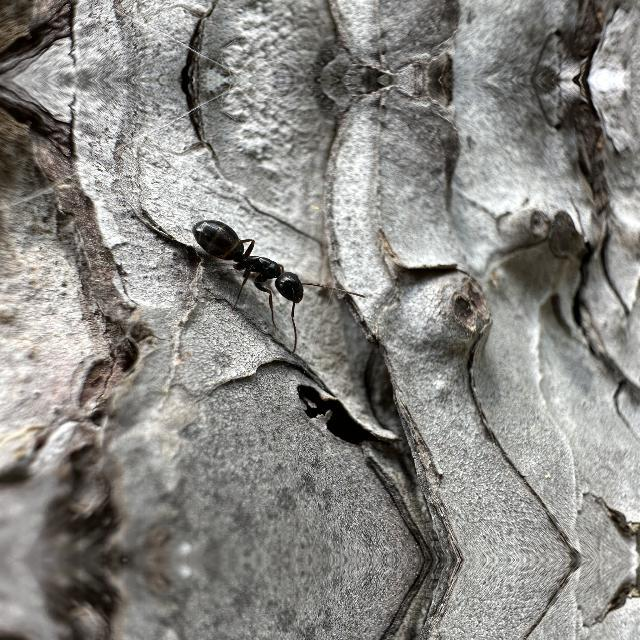Camponotus: (178, 204, 336, 320)
